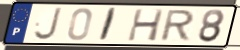0: (66, 7, 94, 42)
8: (196, 8, 226, 44)
H: (126, 8, 166, 42)
I: (97, 7, 119, 43)
J: (32, 7, 63, 42)
R: (158, 9, 197, 43)
